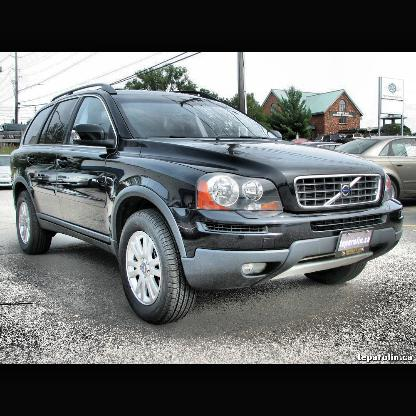Volvo XC90 SUV 2007: (11, 83, 405, 327)
